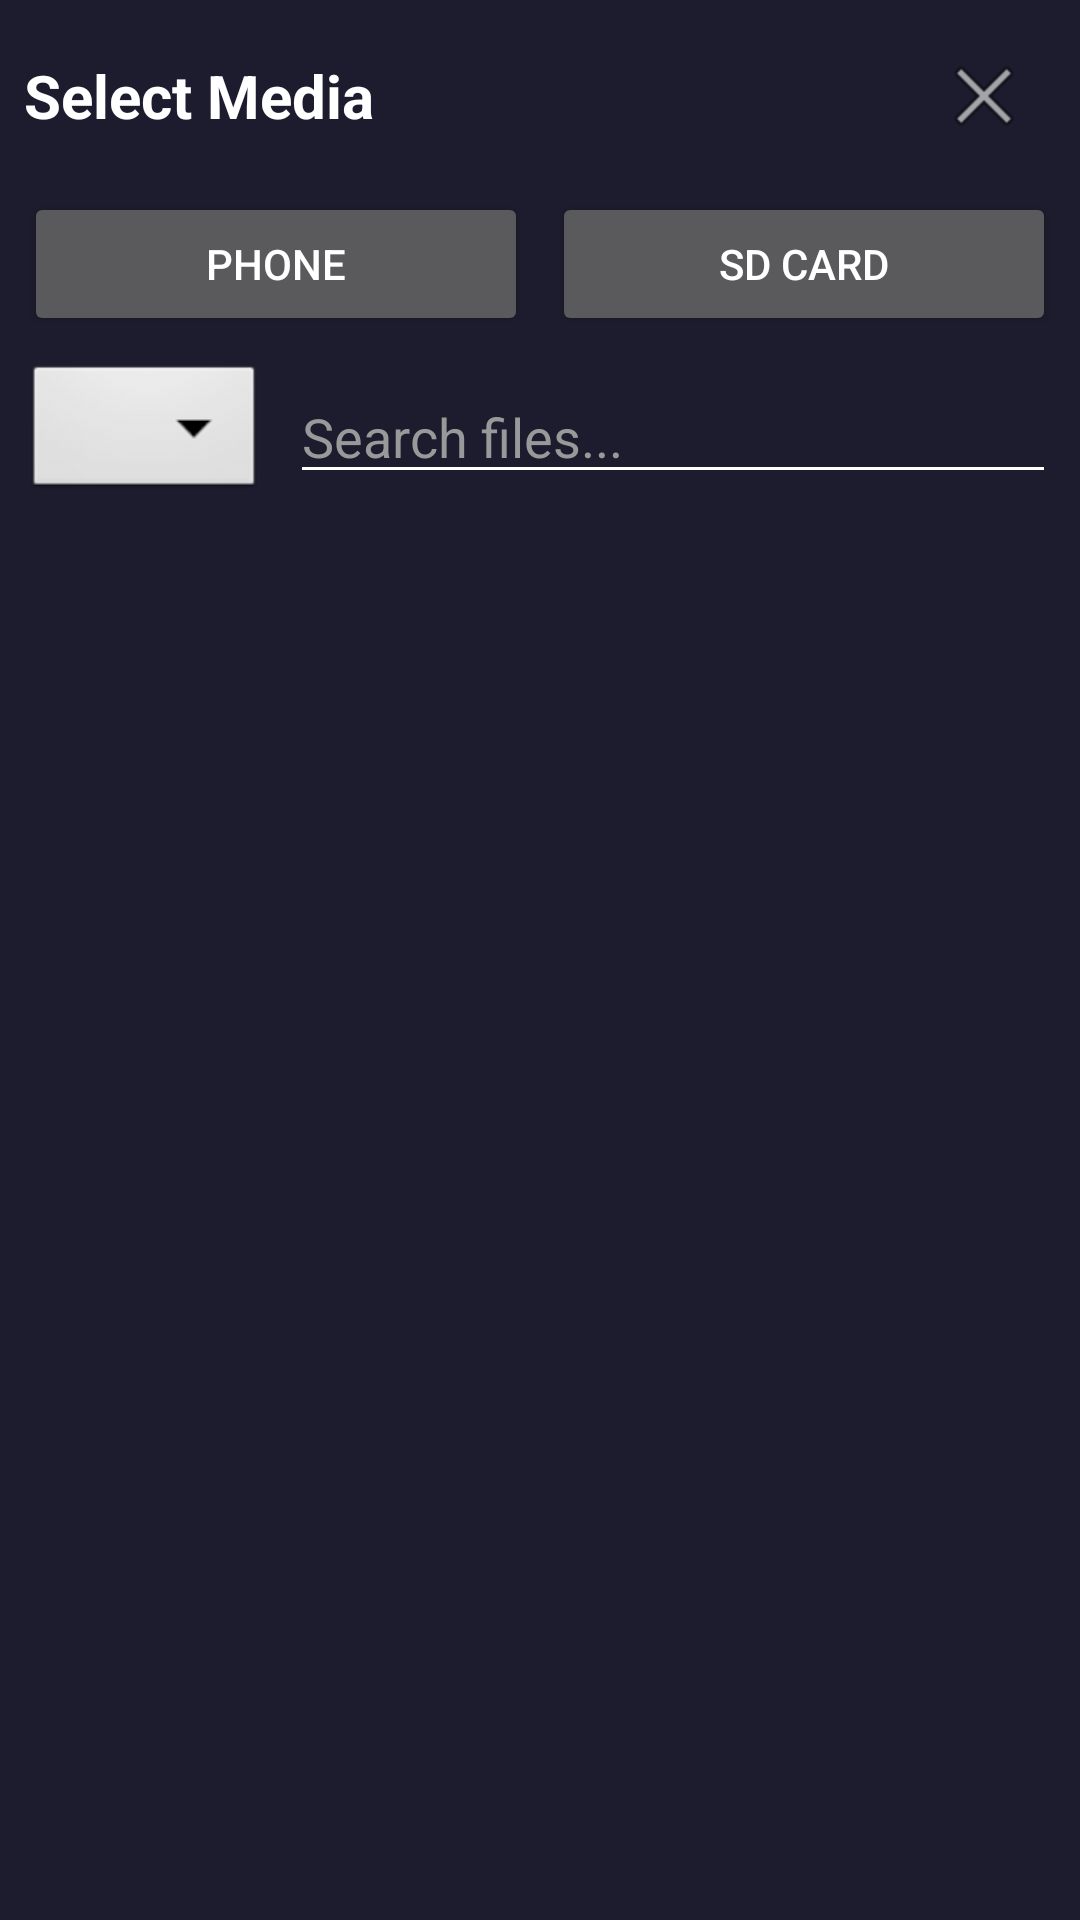

Icon bounding boxes for this 1080×1920 phone screenshot, format (x1, y1, x2, y2):
Close: (957, 69, 1011, 123)
